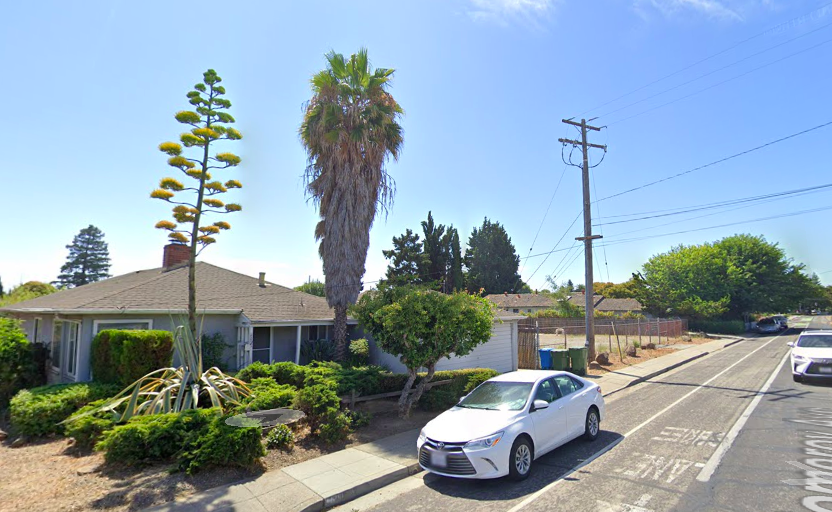utility_pole: (552, 106, 611, 175)
